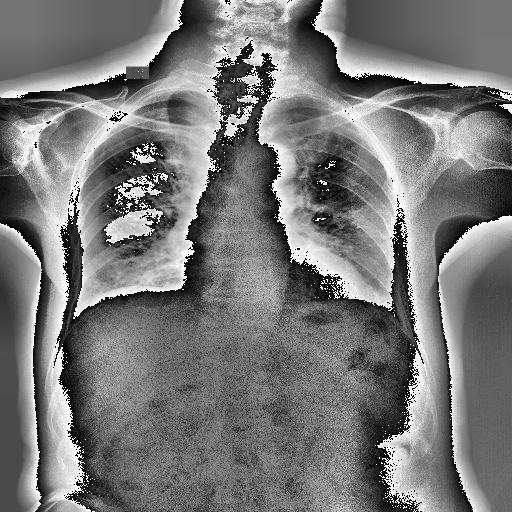0- Aortic enlargement: (239, 143, 298, 193), (232, 141, 298, 182), (247, 145, 296, 194)
3- Cardiomegaly: (178, 255, 379, 320), (176, 250, 366, 304), (178, 252, 380, 302)
5- ILD: (87, 242, 183, 289), (336, 204, 384, 234)
9- Other lesion: (87, 242, 183, 289), (336, 204, 384, 234)
